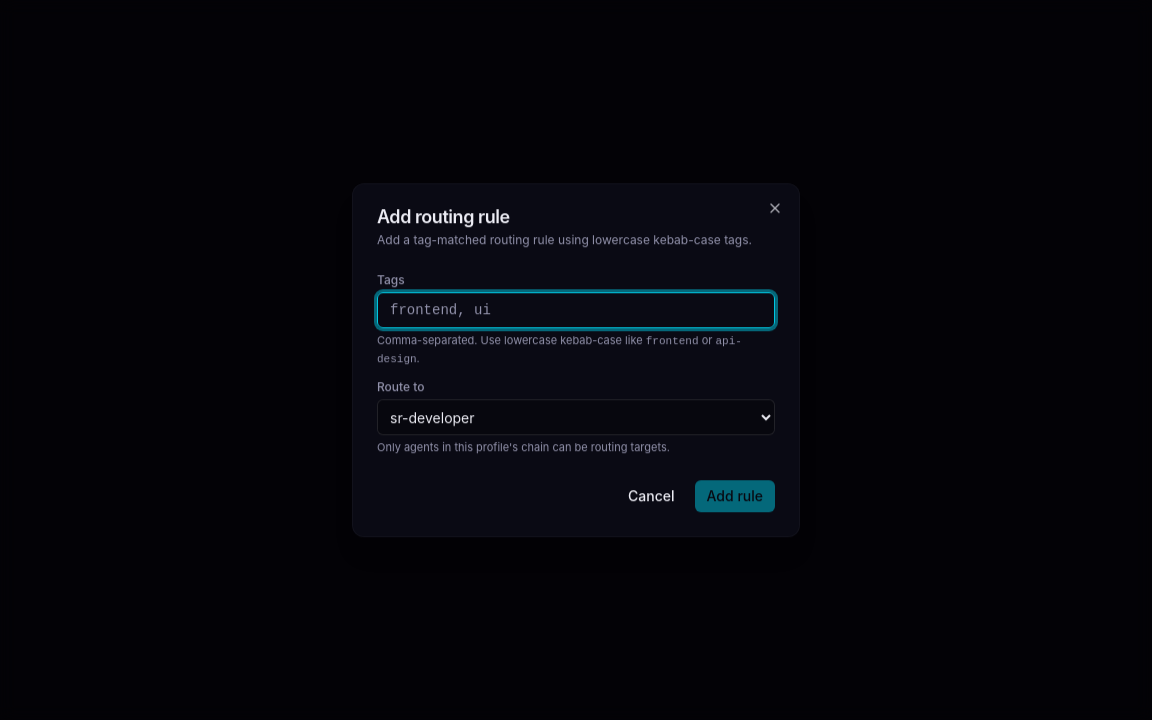
it: RoutingRuleDialog › blocks invalid tags that do not match the profile schema
The image size is (1152, 720).
Type "frontend, Data Engineer" into the field named "Tags" at (576, 310), box [377,292,775,328]
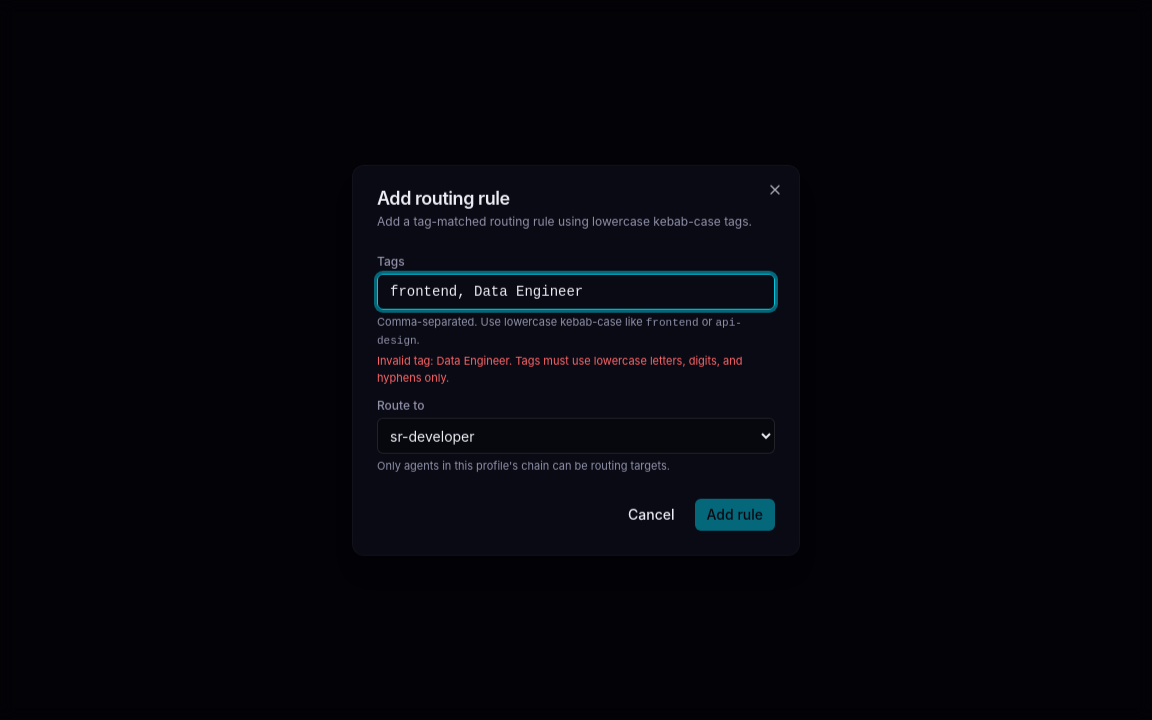
Check: the button "Add rule" is disabled, box [694,498,775,530]
Check: the text "Invalid tag: Data Engineer" is shown, box [377,354,742,384]
